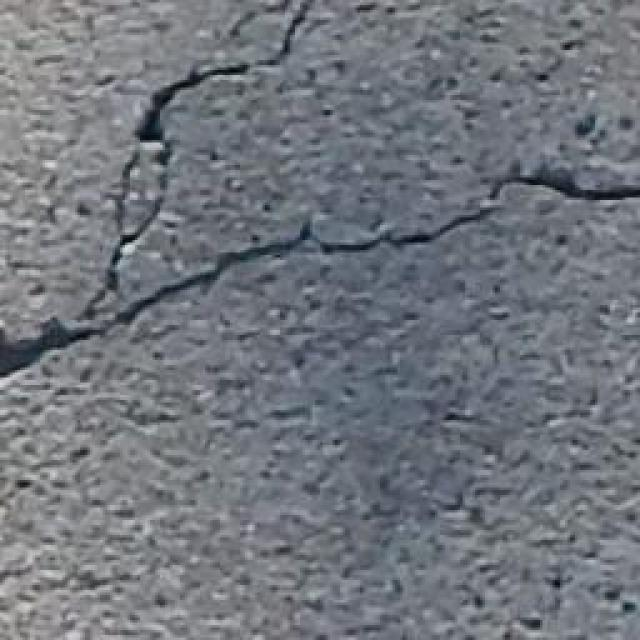concrete-crack: (0, 168, 639, 396), (79, 0, 324, 329)
